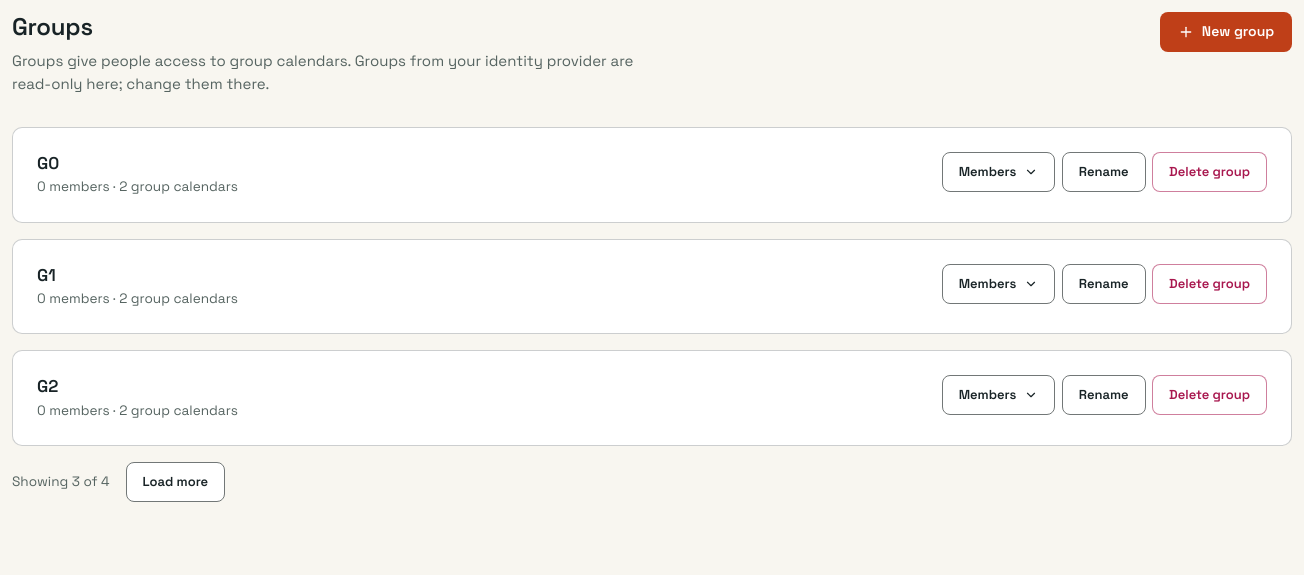
Test case: Groups › pages with Load more
Check: the text "Showing 3 of 4" is shown, box [12,472,110,492]
Click the button "Load more".
click(175, 482)  # box [126,462,225,502]
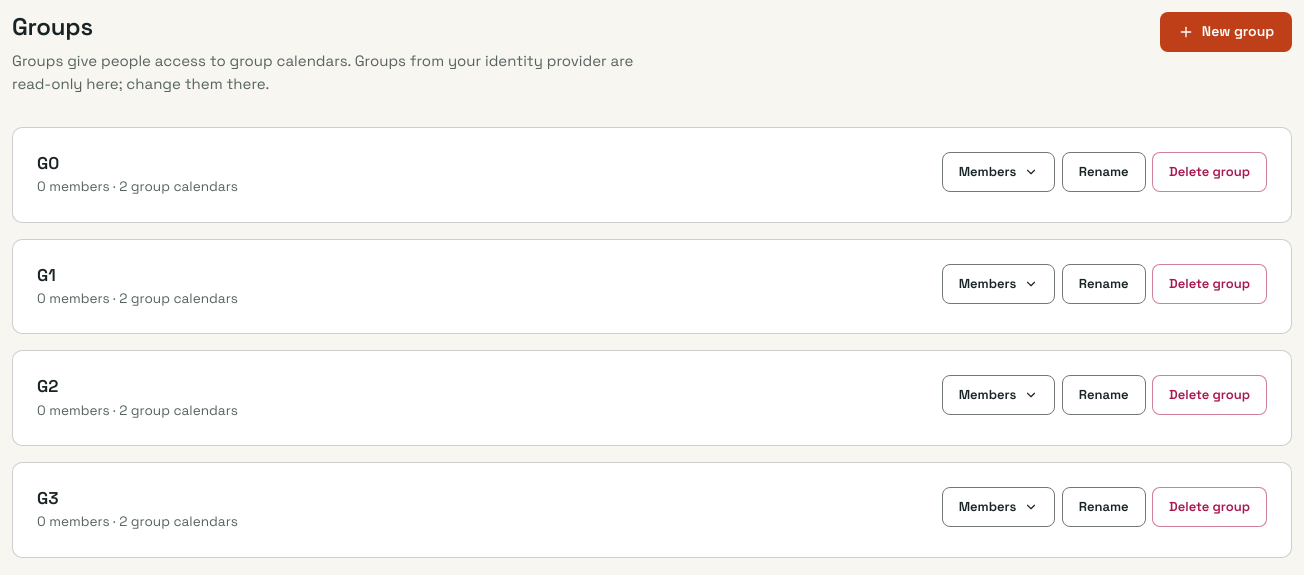
Check: the heading "G3" is shown, box [37,487,59,509]
Check: the text "Showing" is gone
Check: the button "Load more" is gone
